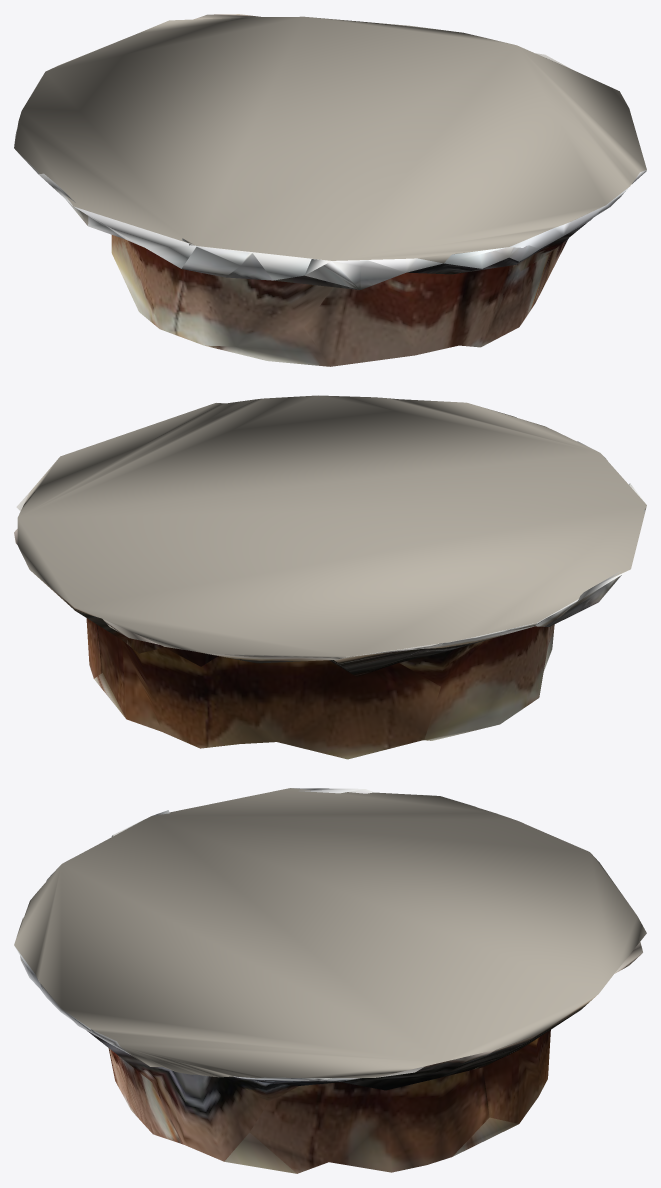
Rendered from cake_430.obj.
3 views of the same model, one above another, from view 1: azimuth 30°, elevation 25°; view 2: azimuth 150°, elevation 25°; view 3: azimuth 270°, elevation 25° (orthographic). The views are drawn at different scales.
Size of the model in its own units: 0.1784 by 0.0514 by 0.178.
1 material, 1 textured.
